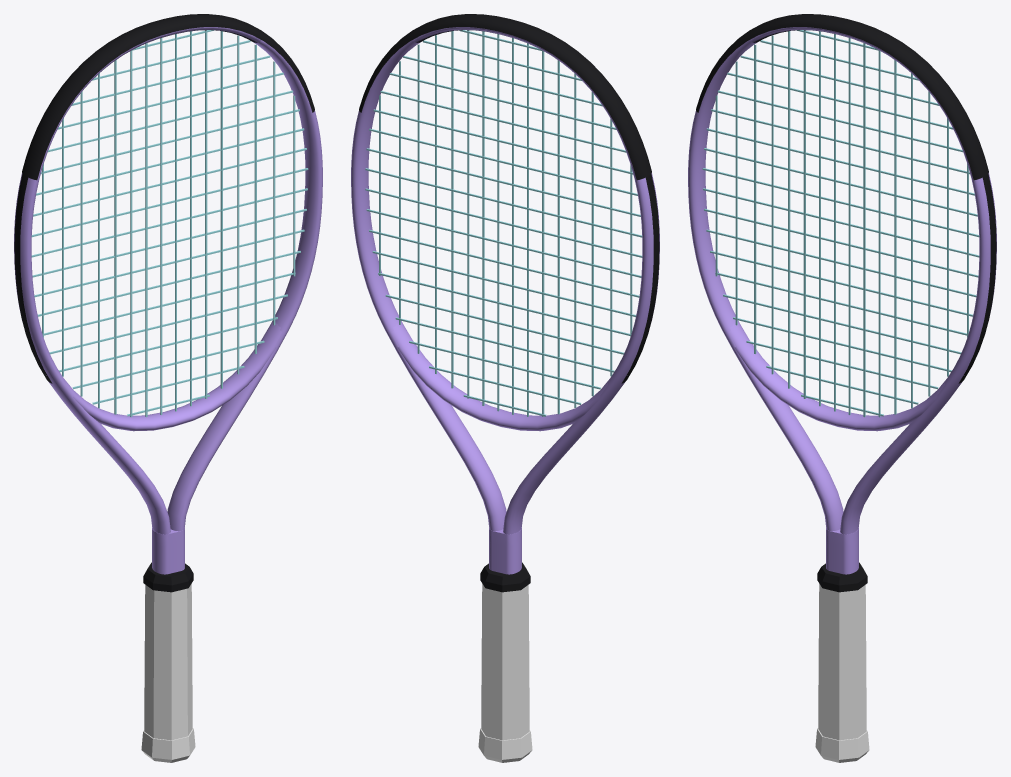
The model's file is head-instinct-junior-25.glb.
3 renders of one model, left to right at view 1: azimuth 30°, elevation 25°; view 2: azimuth 150°, elevation 25°; view 3: azimuth 330°, elevation 25°, orthographic.
Visible parts, largest first — view 1: frame, strings_mains, strings_crosses, grip, bumper, grommets, butt_cap, collar; view 2: frame, strings_mains, strings_crosses, grip, bumper, grommets, butt_cap, collar; view 3: frame, strings_mains, strings_crosses, grip, bumper, grommets, butt_cap, collar.
Boxes of the visible parts, x1,y1,x2,y2 form: frame: [14, 27, 322, 574]; strings_mains: [42, 30, 295, 417]; strings_crosses: [31, 30, 308, 416]; grip: [144, 584, 192, 740]; bumper: [22, 14, 314, 180]; grommets: [14, 173, 52, 383]; butt_cap: [141, 728, 195, 762]; collar: [143, 562, 193, 592]; frame: [351, 27, 659, 574]; strings_mains: [379, 30, 632, 416]; strings_crosses: [365, 30, 642, 416]; grip: [481, 584, 529, 740]; bumper: [359, 14, 651, 180]; grommets: [621, 173, 659, 383]; butt_cap: [478, 728, 532, 762]; collar: [480, 562, 530, 592]; frame: [688, 27, 996, 574]; strings_mains: [715, 30, 968, 417]; strings_crosses: [702, 30, 979, 416]; grip: [818, 584, 866, 740]; bumper: [696, 14, 988, 180]; grommets: [958, 173, 996, 383]; butt_cap: [815, 728, 869, 762]; collar: [817, 562, 867, 592].
Size of the model in its own units: 0.2757 by 0.6353 by 0.0396.
